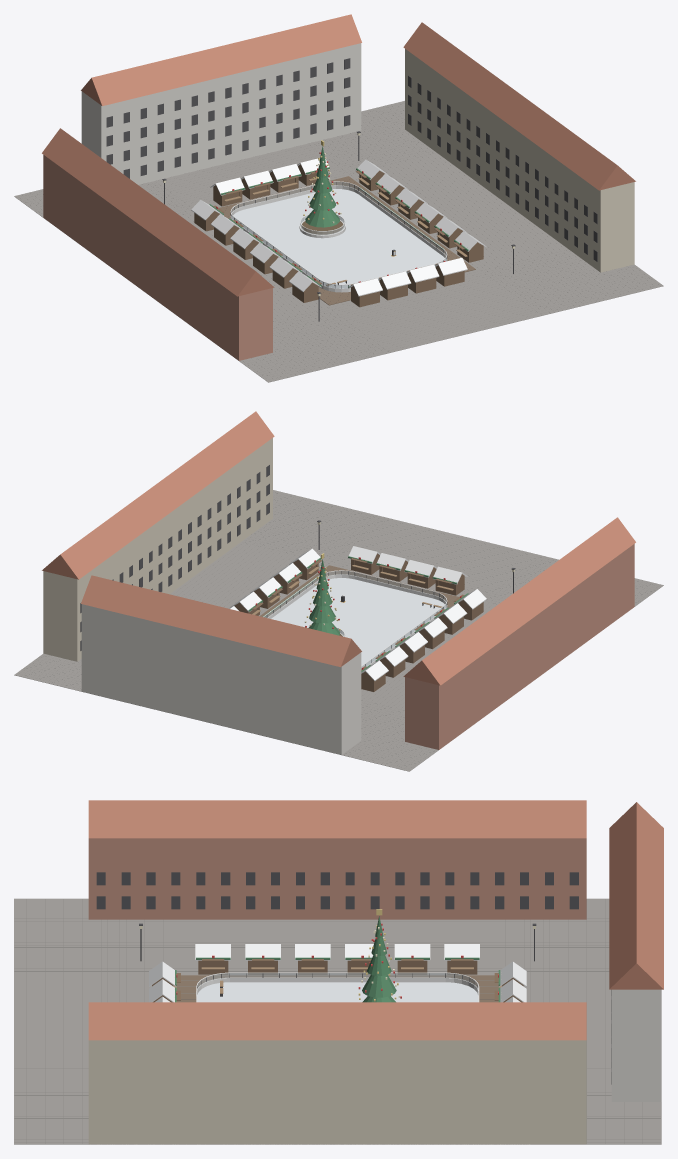
File: clay-ice-rink-market-square-clay-v001.glb
3 renders of one model, top to bottom at view 1: azimuth 30°, elevation 25°; view 2: azimuth 150°, elevation 25°; view 3: azimuth 270°, elevation 25°, orthographic. The views are drawn at different scales.
Visible parts, largest first — view 1: CLAY_SETTS, CLAY_TROOF, CLAY_FACADE3, CLAY_FACADE, CLAY_FACADE2, CLAY_ICE, CLAY_DARK, CLAY_HUT, CLAY_SNOW, CLAY_WHITE, CLAY_DECK, CLAY_GLASS (+3 smaller); view 2: CLAY_SETTS, CLAY_TROOF, CLAY_FACADE3, CLAY_FACADE2, CLAY_FACADE, CLAY_ICE, CLAY_HUT, CLAY_SNOW, CLAY_DARK, CLAY_WHITE, CLAY_DECK, CLAY_TREE (+3 smaller); view 3: CLAY_FACADE, CLAY_SETTS, CLAY_TROOF, CLAY_FACADE2, CLAY_JOINT, CLAY_FACADE3, CLAY_DARK, CLAY_ICE, CLAY_SNOW, CLAY_HUT, CLAY_WHITE, CLAY_DECK (+3 smaller).
Part boxes in pixels (x1,y1,x2,y2): CLAY_SETTS: (14,101,663,382); CLAY_TROOF: (42,14,635,296); CLAY_FACADE3: (81,43,361,184); CLAY_FACADE: (405,49,634,272); CLAY_FACADE2: (43,155,272,360); CLAY_ICE: (232,189,445,288); CLAY_DARK: (106,58,597,261); CLAY_HUT: (194,164,483,307); CLAY_SNOW: (191,158,486,296); CLAY_WHITE: (230,181,447,292); CLAY_DECK: (219,176,475,305); CLAY_GLASS: (231,182,446,288); CLAY_SETTS: (14,490,663,771); CLAY_TROOF: (42,411,635,685); CLAY_FACADE3: (81,604,361,754); CLAY_FACADE2: (405,544,634,749); CLAY_FACADE: (43,438,272,661); CLAY_ICE: (271,578,445,667); CLAY_HUT: (234,553,483,691); CLAY_SNOW: (229,546,486,680); CLAY_DARK: (80,465,344,650); CLAY_WHITE: (263,570,447,666); CLAY_DECK: (260,565,458,617); CLAY_TREE: (308,559,339,635); CLAY_FACADE: (88,1040,586,1144); CLAY_SETTS: (14,898,661,1144); CLAY_TROOF: (88,800,663,1040); CLAY_FACADE2: (88,838,586,919); CLAY_JOINT: (14,899,661,1143); CLAY_FACADE3: (611,989,661,1101); CLAY_DARK: (96,872,611,1084); CLAY_ICE: (197,982,478,1002); CLAY_SNOW: (149,944,526,1002); CLAY_HUT: (152,959,523,1002); CLAY_WHITE: (196,972,479,1002); CLAY_DECK: (177,975,498,1002).
Bounding box in the file's own units: 70.6 × 18.5 × 78.31.
